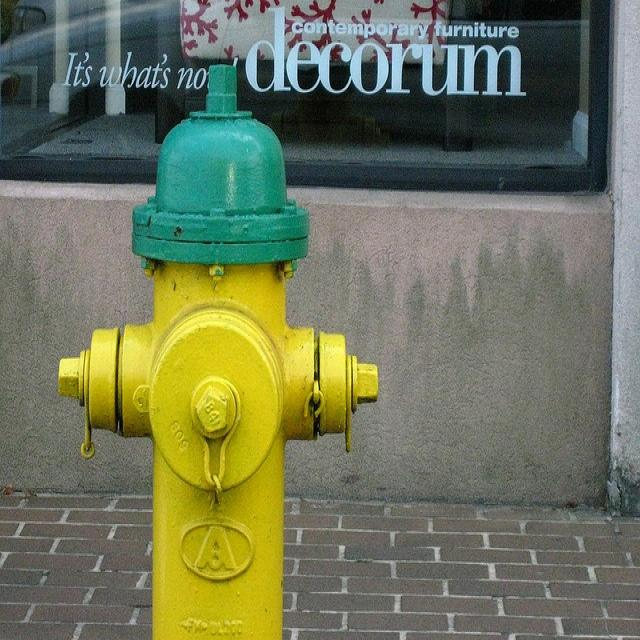fire_hydrant: (51, 64, 376, 627)
